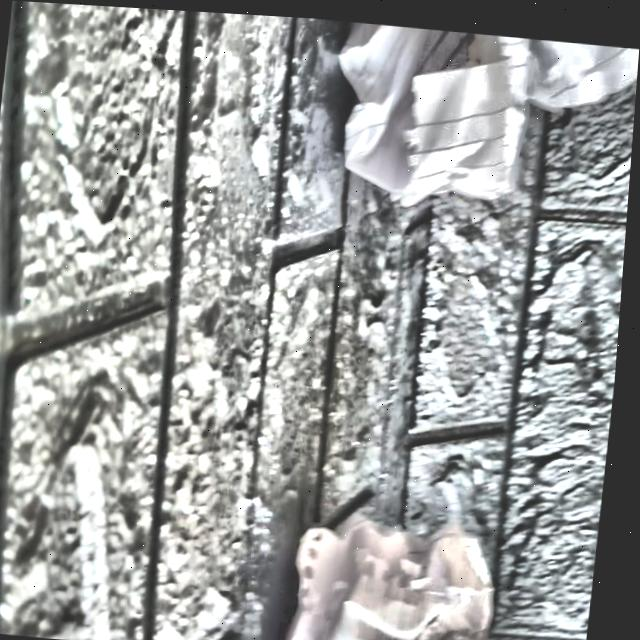paper: (338, 17, 640, 236), (271, 467, 542, 640)
